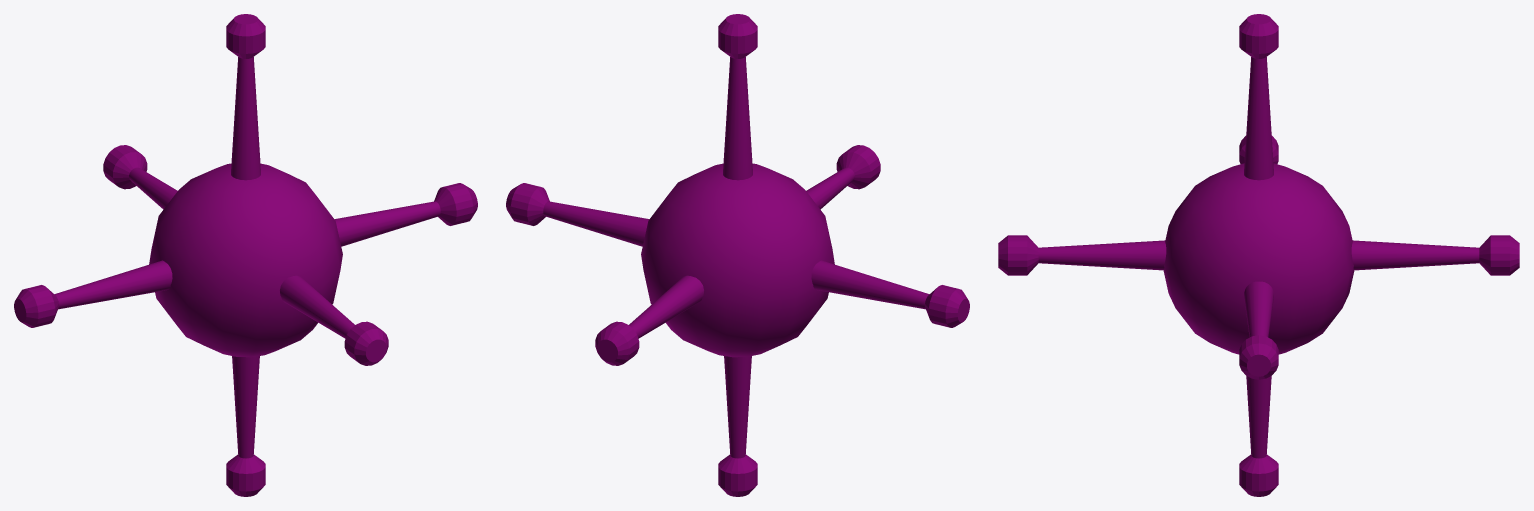
Rendered from Virus1.FBX.
The picture shows the model from 3 angles, left to right: view 1: azimuth 30°, elevation 25°; view 2: azimuth 150°, elevation 25°; view 3: azimuth 270°, elevation 25°; orthographic projection.
Parts seen in each view (by area): view 1: Sphere001; view 2: Sphere001; view 3: Sphere001.
Part boxes in pixels (left/top/right/bottom): Sphere001: left=14, top=14, right=477, bottom=496; Sphere001: left=506, top=14, right=969, bottom=496; Sphere001: left=998, top=14, right=1519, bottom=496.
Size of the model in its own units: 436 by 436 by 436.
